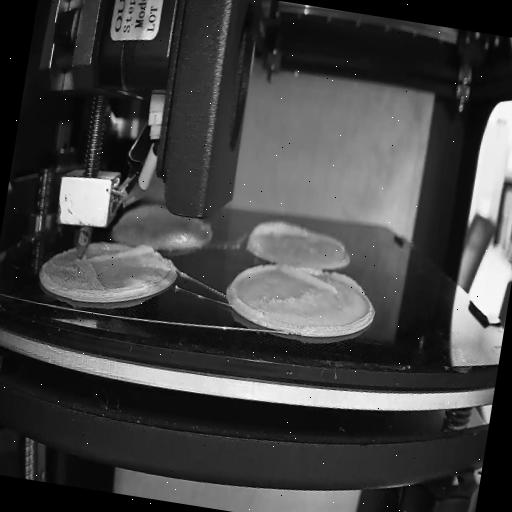over_extrusion: (226, 254, 280, 320), (278, 262, 366, 301), (246, 212, 310, 258), (92, 236, 152, 266)
